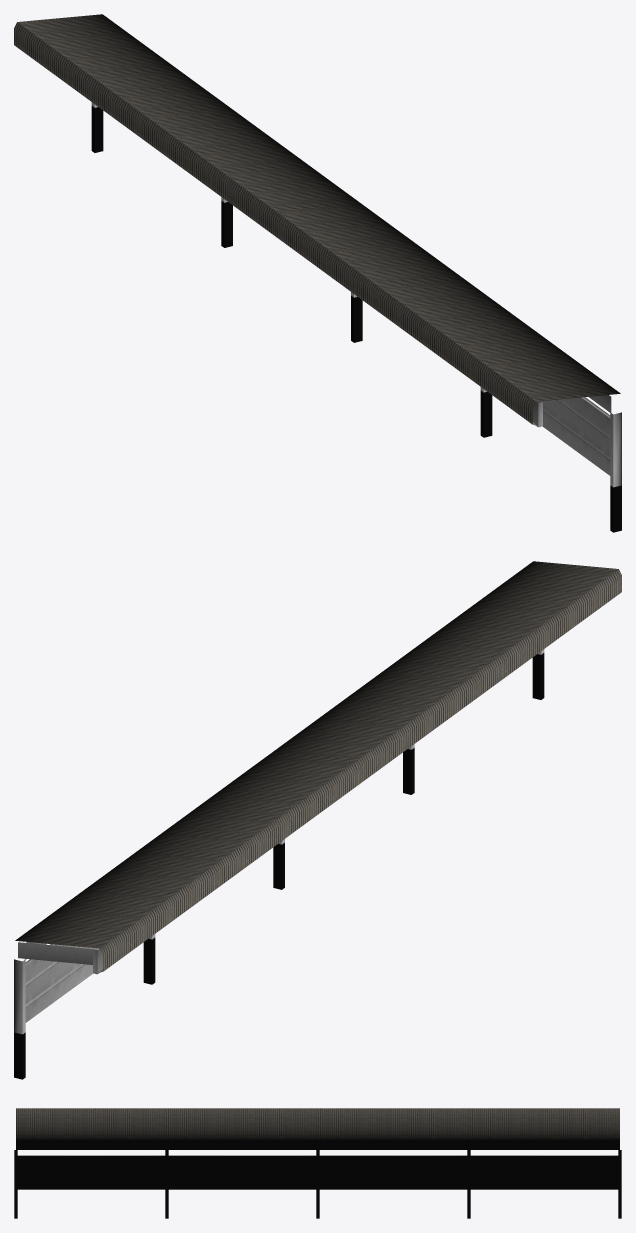
The model's file is AMB_MEI_YANE00.glb.
3 views of the same model, one above another, from view 1: azimuth 30°, elevation 25°; view 2: azimuth 150°, elevation 25°; view 3: azimuth 270°, elevation 25° (orthographic). The views are drawn at different scales.
Visible parts, largest first — view 1: Mesh1; view 2: Mesh1; view 3: Mesh1.
Part boxes in pixels (x1,y1,x2,y2): Mesh1: [14, 14, 621, 532]; Mesh1: [14, 561, 621, 1079]; Mesh1: [14, 1108, 621, 1218].
Size of the model in its own units: 9.87 by 15.81 by 101.
Materials: 6 (5 with a texture image).
